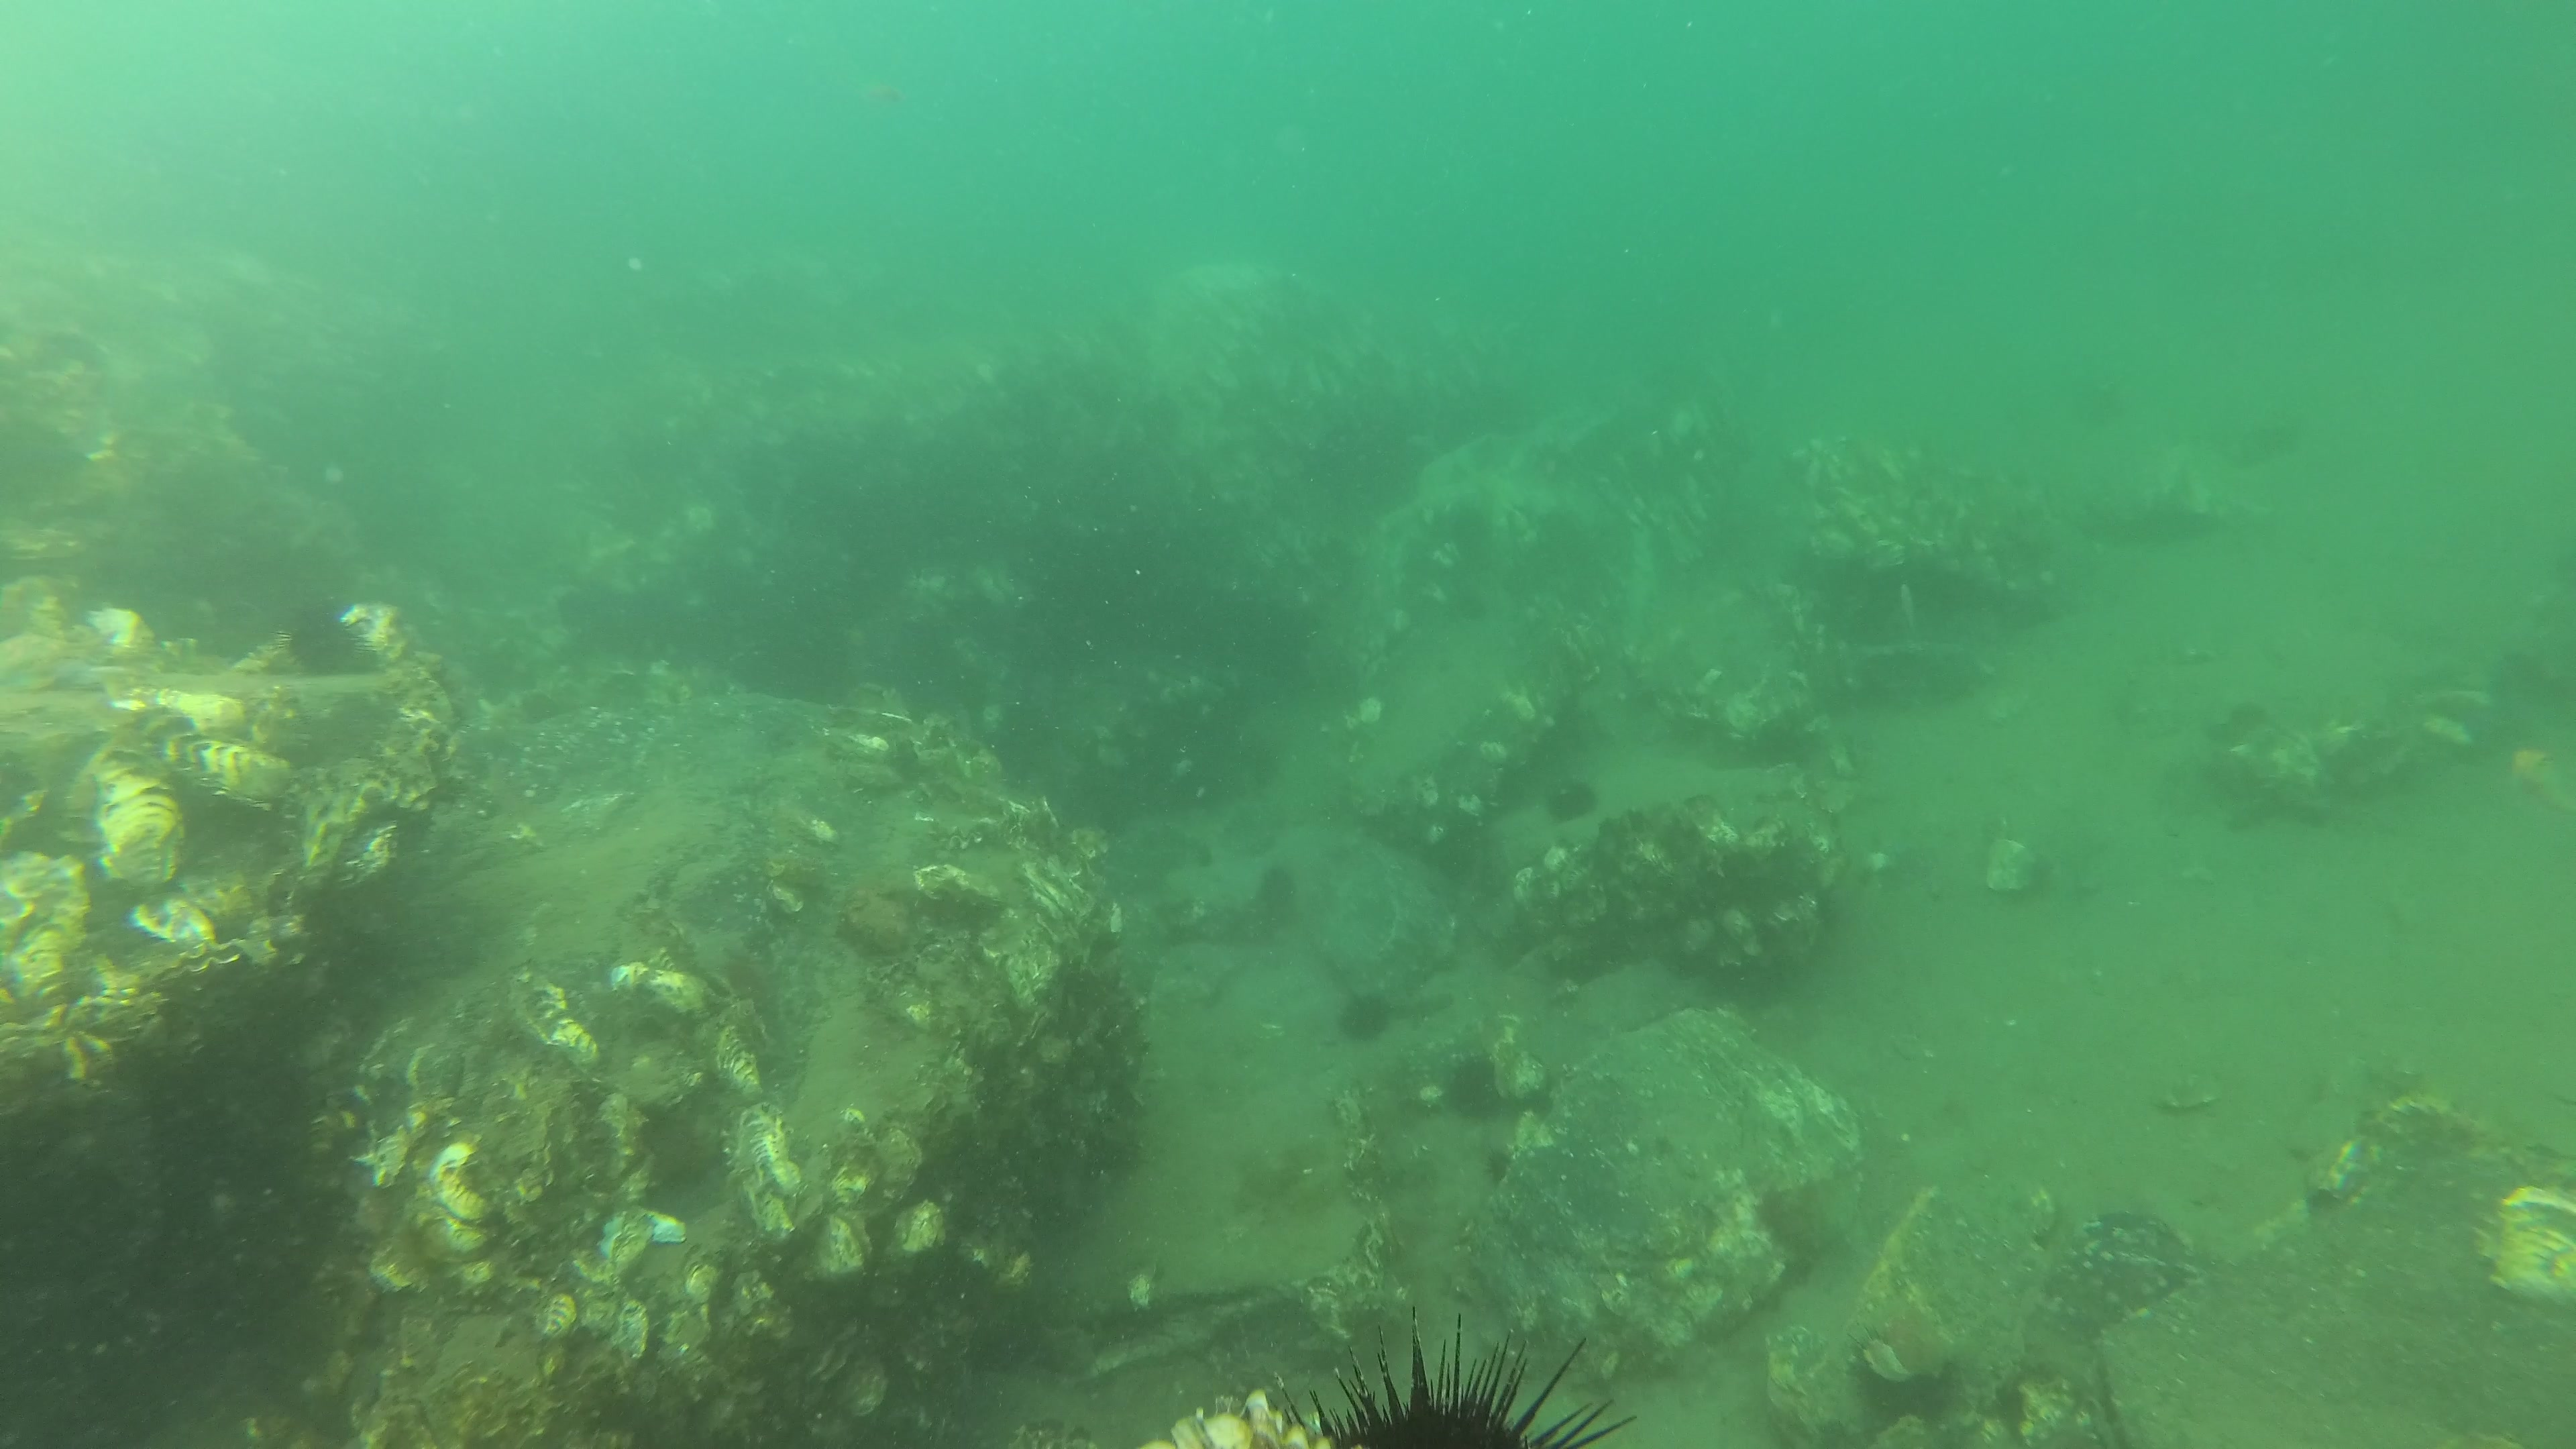echinus: (1274, 1311, 1645, 1449), (278, 602, 366, 686), (1440, 1047, 1504, 1118), (1539, 777, 1601, 824), (1339, 987, 1394, 1039), (1251, 863, 1297, 913)
